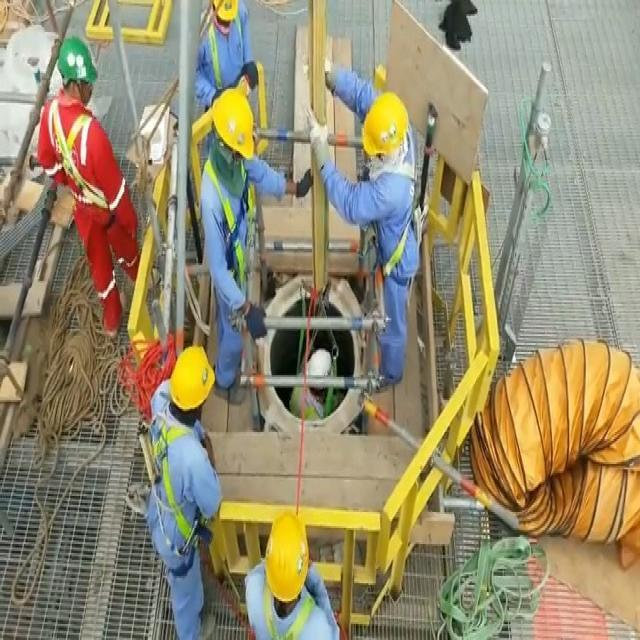No_Harness: (249, 593, 336, 639)
Person: (32, 32, 137, 337), (343, 68, 420, 387), (144, 345, 221, 640), (203, 85, 265, 395), (245, 507, 347, 639)
